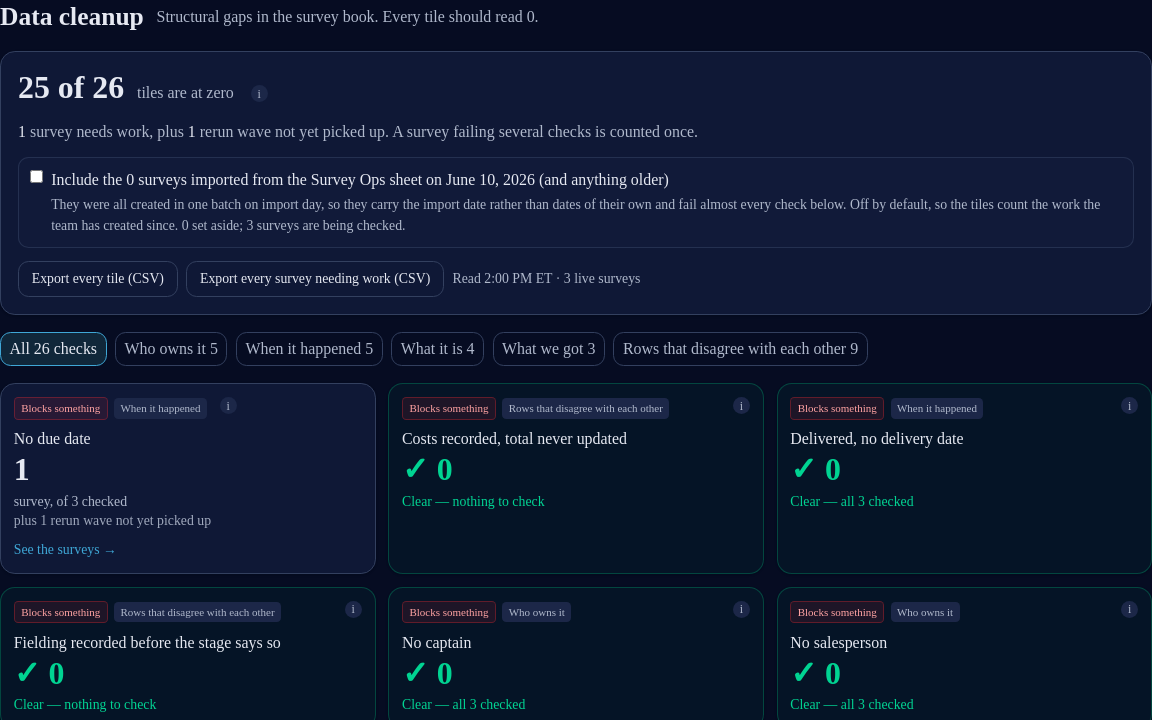
Scenario: the drill › exports a worksheet whose headers name the database columns, and logs it
Click the button named "Open the 2 surveys behind \"No due date\"" at {"x": 61, "y": 408}, box [0,383,376,574]
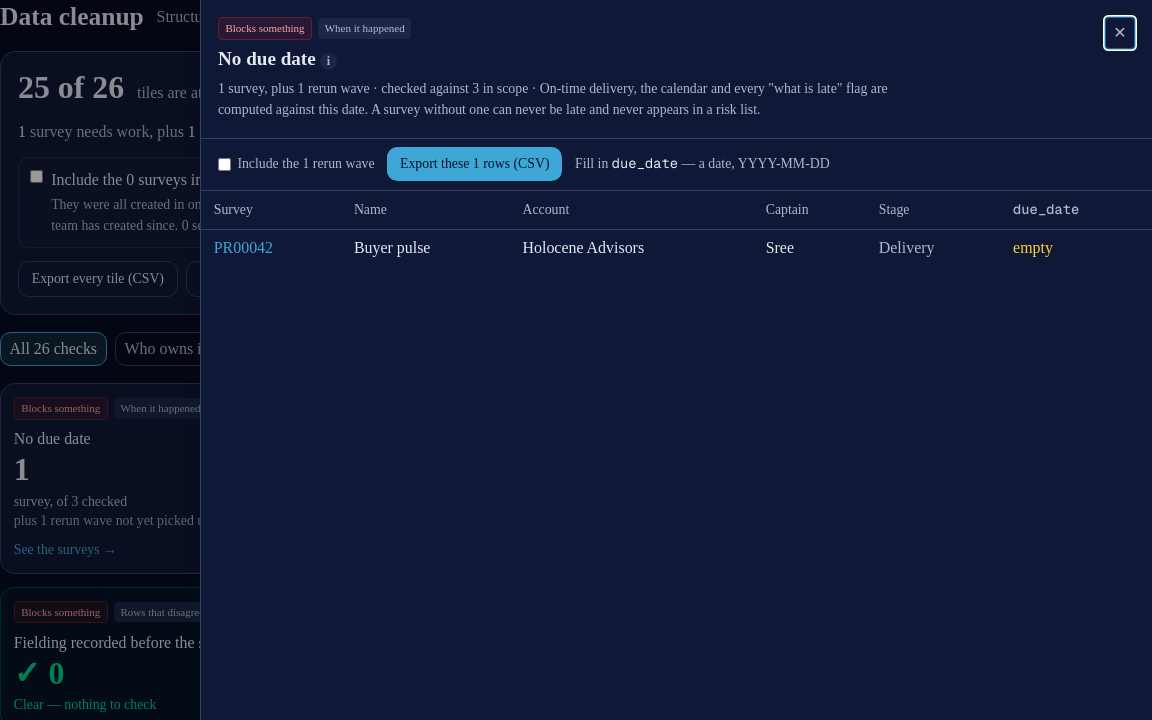
Click the button "Export these 1 rows (CSV)" at {"x": 475, "y": 164}, box [387,147,562,181]
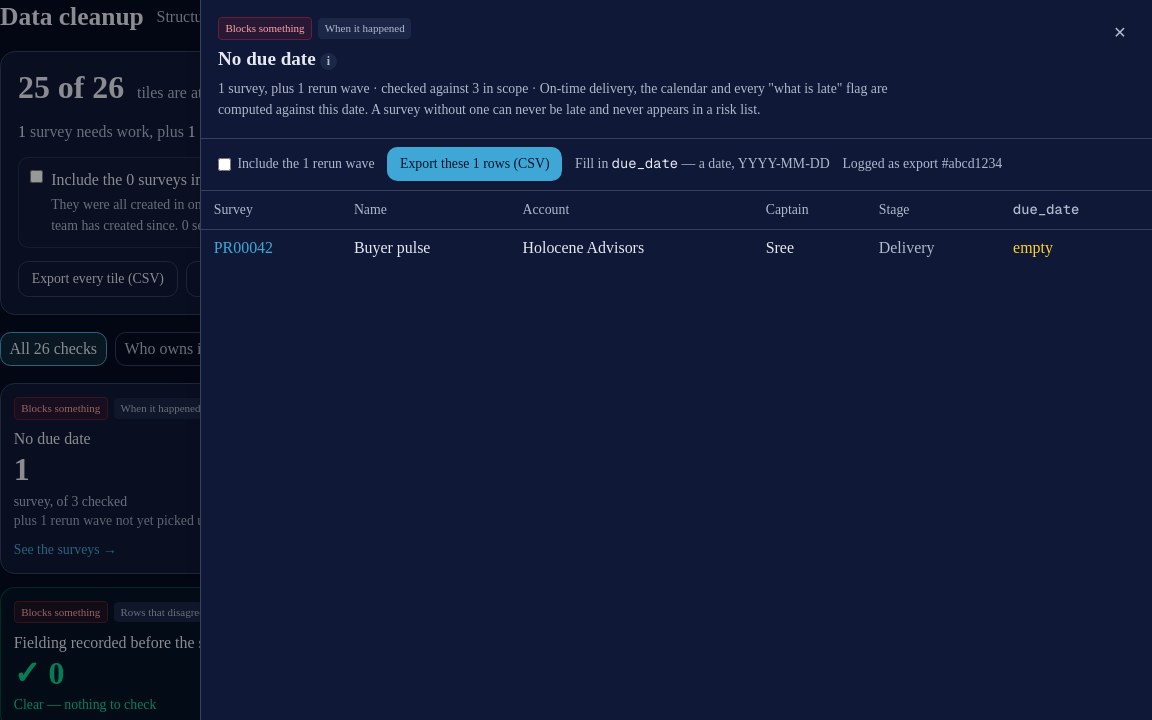
Expected: the text "Logged as export #abcd1234" is shown, [842,153,1002,175]
